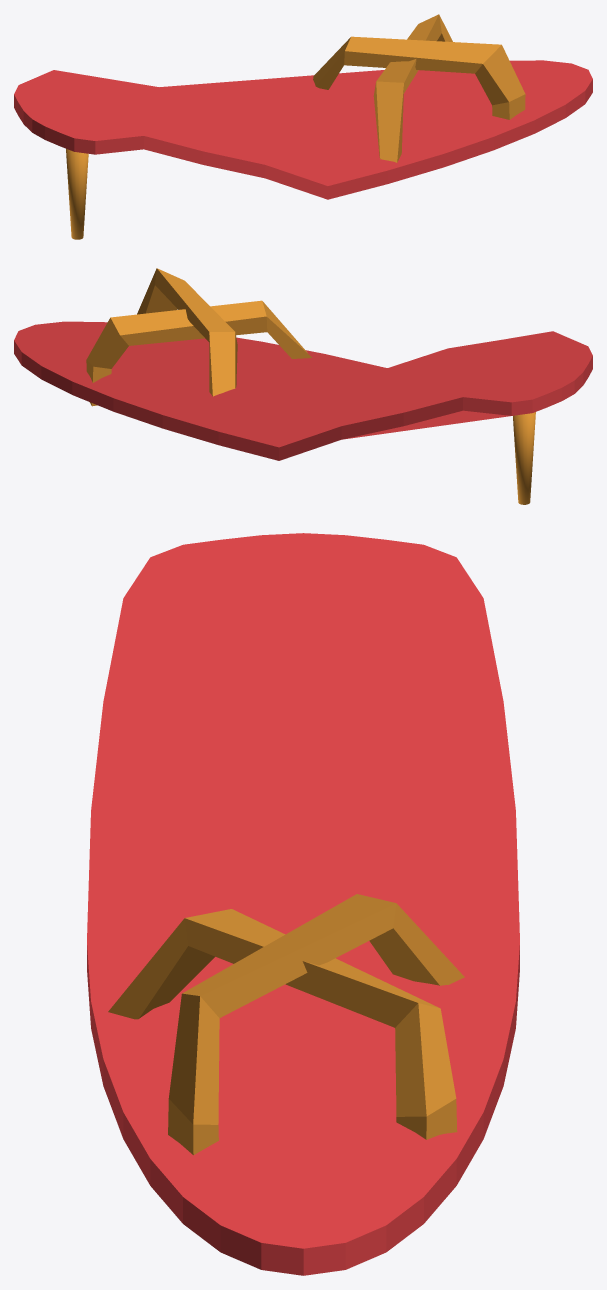
The model's file is Boot.fbx.
3 renders of one model, top to bottom at view 1: azimuth 30°, elevation 25°; view 2: azimuth 150°, elevation 25°; view 3: azimuth 270°, elevation 25°, orthographic. The views are drawn at different scales.
Visible parts, largest first — view 1: Circle; view 2: Circle; view 3: Circle.
Part boxes in pixels (bbox=[...]): Circle: bbox=[14, 14, 592, 239]; Circle: bbox=[14, 268, 592, 504]; Circle: bbox=[87, 533, 519, 1275].
Size of the model in its own units: 593 by 134 by 200.
